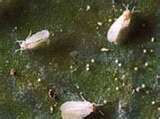whitefly: (107, 6, 136, 46), (59, 96, 101, 119), (16, 29, 50, 57)
